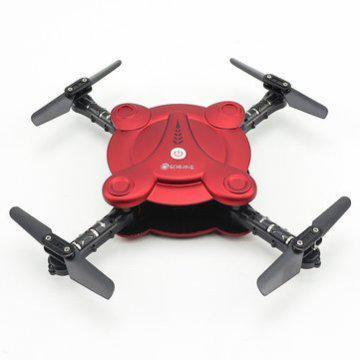drone: (0, 38, 360, 327)
